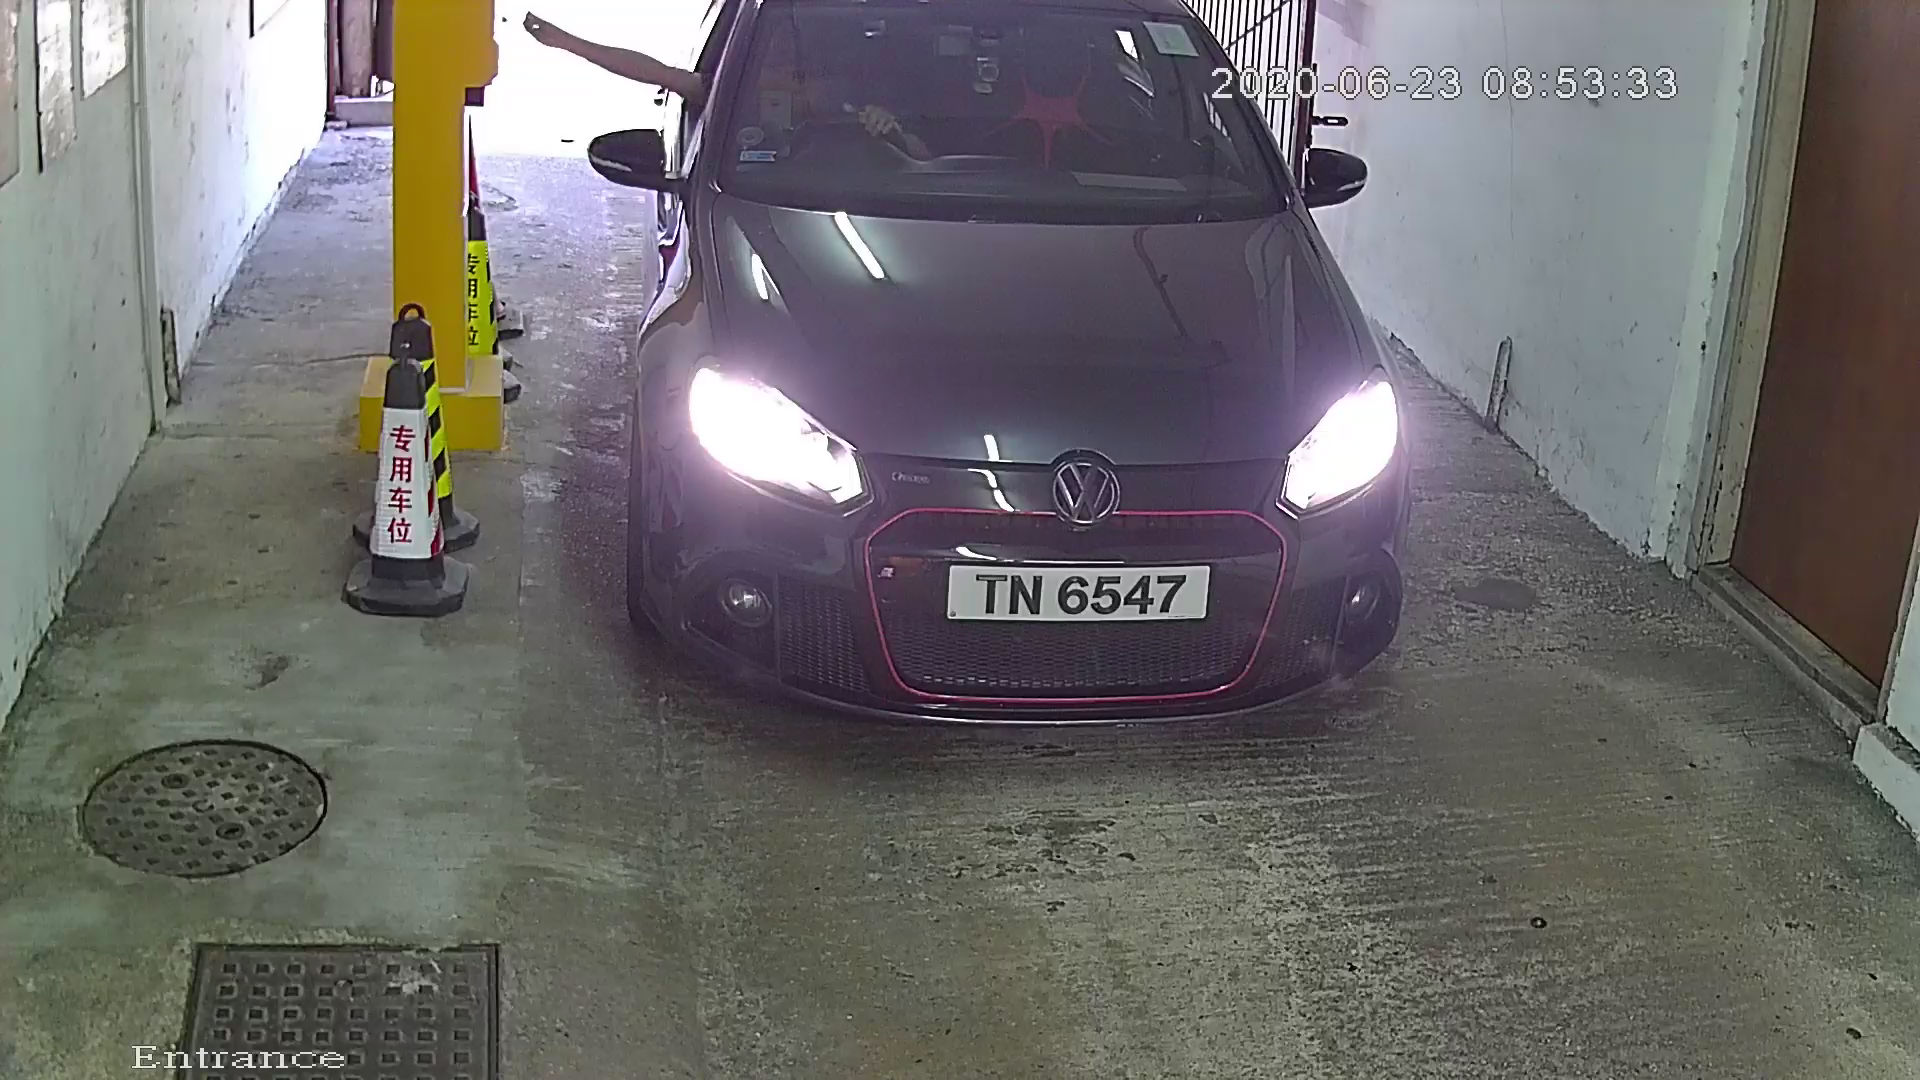privatecar: (568, 1, 1469, 796)
